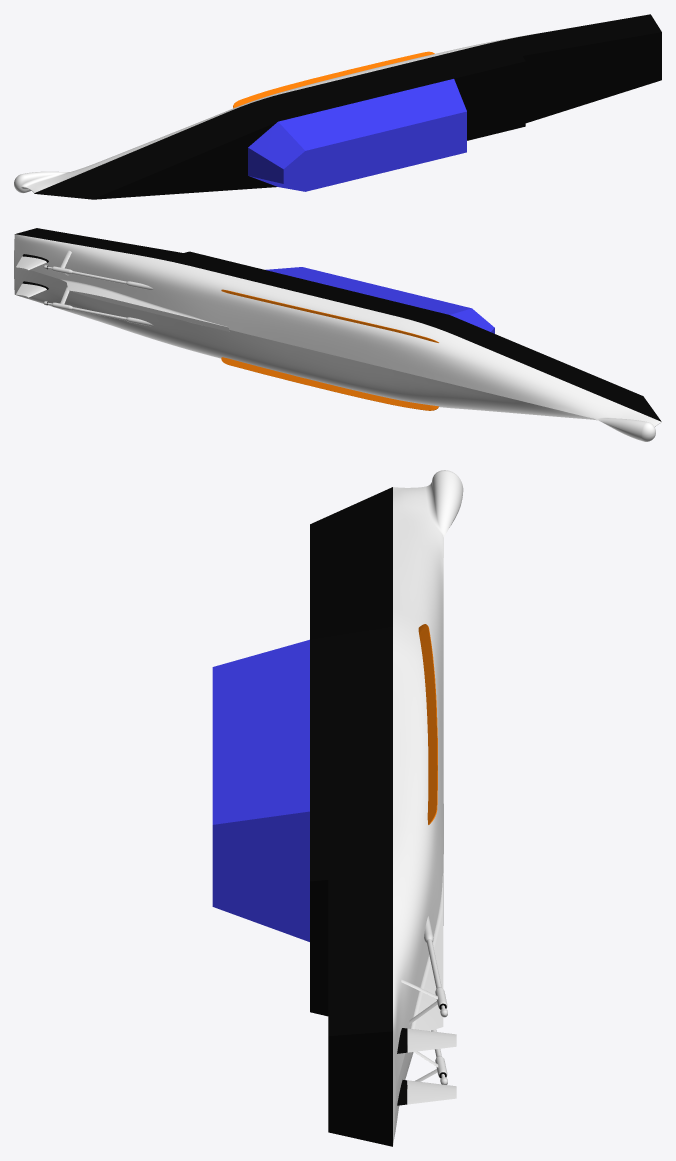
File: ONR_TUMBLEHOME.obj
The picture shows the model from 3 angles, top to bottom: view 1: azimuth 30°, elevation 25°; view 2: azimuth 150°, elevation 25°; view 3: azimuth 270°, elevation 25°; orthographic projection. The views are drawn at different scales.
Visible parts, largest first — view 1: mesh57, mesh67, mesh63, mesh65, mesh73, mesh72, mesh60, mesh55, mesh94, mesh69, mesh102, mesh74 (+2 smaller); view 2: mesh94, mesh19, mesh73, mesh63, mesh65, mesh55, mesh26, mesh100, mesh74, mesh93, mesh69, mesh75 (+3 smaller); view 3: mesh94, mesh63, mesh65, mesh64, mesh73, mesh55, mesh54, mesh58, mesh56, mesh74, mesh102, mesh93.
Part boxes in pixels (box(x1,y1,x2,y2)): mesh57: box(522, 32, 661, 123); mesh67: box(283, 111, 466, 191); mesh63: box(278, 45, 525, 121); mesh65: box(278, 79, 466, 150); mesh73: box(35, 111, 277, 198); mesh72: box(93, 122, 276, 199); mesh60: box(454, 61, 525, 140); mesh55: box(524, 14, 661, 55); mesh94: box(26, 33, 537, 192); mesh69: box(248, 122, 304, 169); mesh102: box(241, 52, 424, 104); mesh74: box(230, 93, 283, 121); mesh94: box(14, 234, 661, 426); mesh19: box(14, 265, 597, 420); mesh73: box(450, 315, 660, 421); mesh63: box(182, 251, 448, 316); mesh65: box(265, 267, 471, 314); mesh55: box(15, 228, 180, 254); mesh26: box(230, 359, 427, 410); mesh100: box(230, 291, 427, 340); mesh74: box(400, 315, 456, 335); mesh93: box(596, 418, 646, 435); mesh69: box(450, 308, 494, 331); mesh75: box(70, 290, 228, 329); mesh94: box(393, 486, 443, 1088); mesh63: box(310, 639, 392, 881); mesh65: box(212, 639, 309, 824); mesh64: box(212, 811, 309, 941); mesh73: box(310, 487, 392, 639); mesh55: box(328, 881, 392, 1036); mesh54: box(328, 1031, 392, 1146); mesh58: box(310, 880, 328, 1016); mesh56: box(329, 844, 392, 901); mesh74: box(310, 609, 392, 652); mesh102: box(419, 628, 437, 813); mesh93: box(432, 472, 463, 535).
Bounding box in the file's own units: 1.01 × 0.122 × 0.1761.
